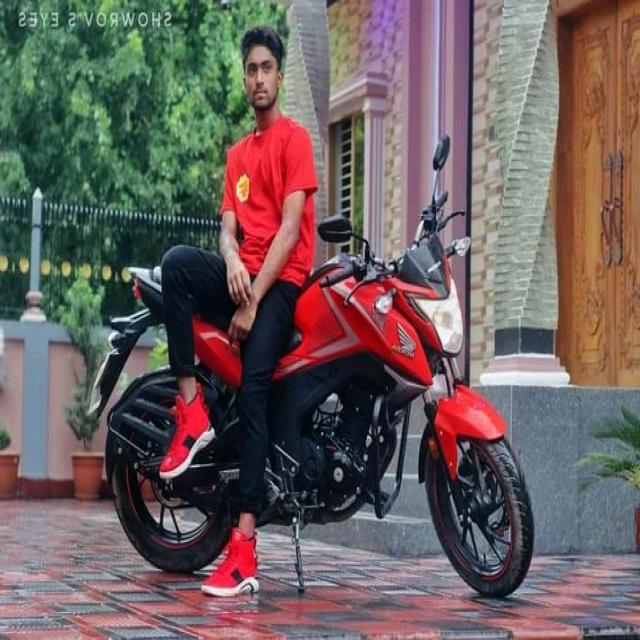Not Wearing Helmet: (215, 22, 303, 151)
